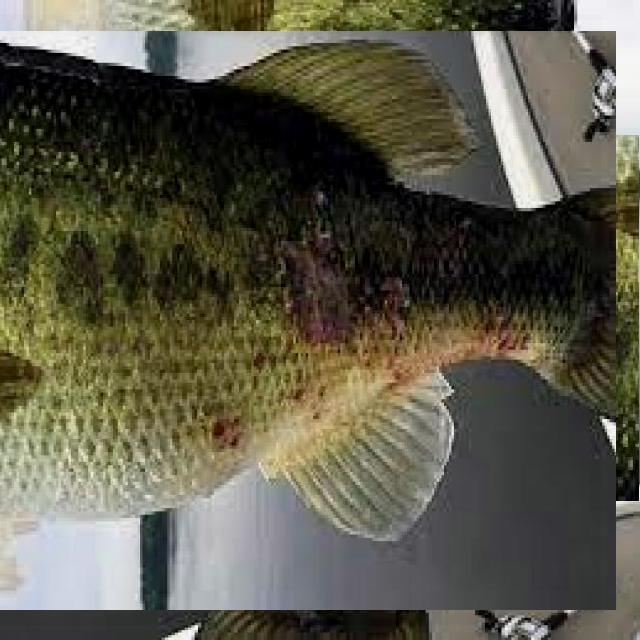EUS Disease: (0, 15, 601, 625), (95, 68, 597, 569)
